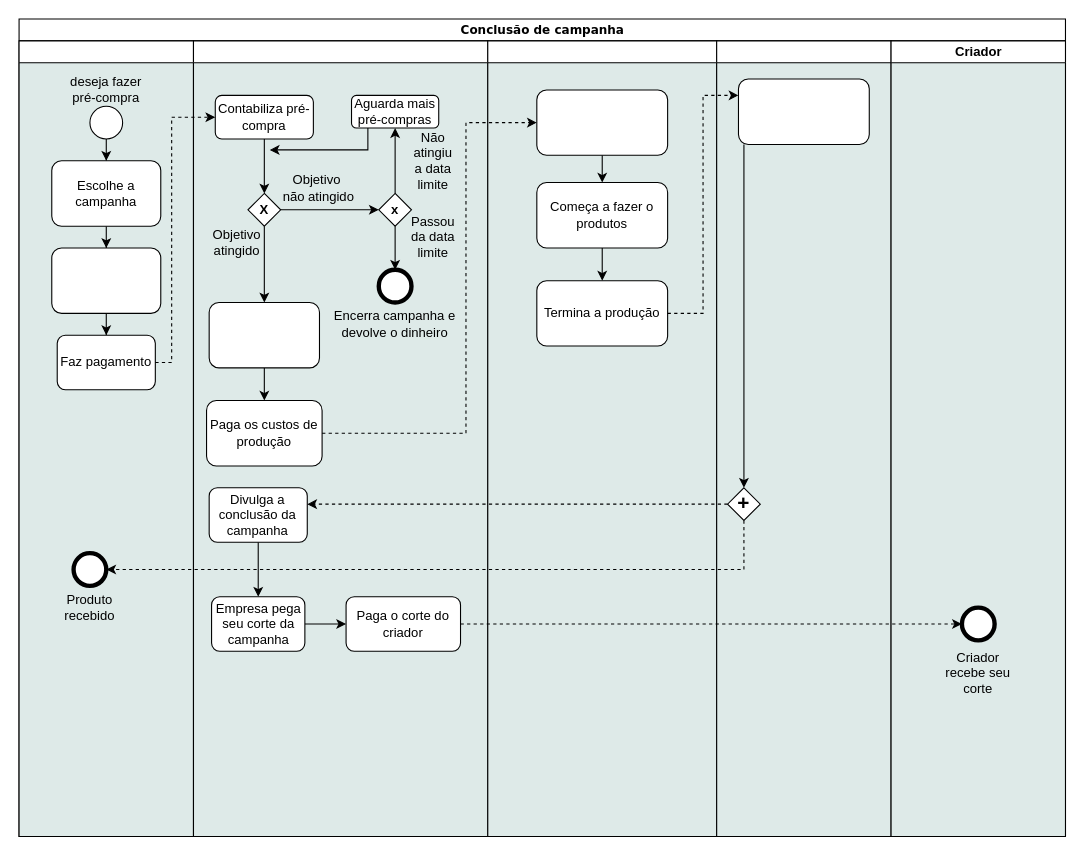
The diagram is 1085 pixels wide and 856 high, and some of its shapes have lost their labels. Each missing label, with the box of its shape:
Crowdsurfer: (192, 40, 488, 837)
Distribuidora: (716, 40, 891, 837)
Escolhe endereço de entrega: (51, 247, 161, 313)
Fornecedora: (487, 40, 717, 837)
Fã: (18, 40, 193, 837)
Informa que a fornecedora deve iniciar produção: (208, 301, 319, 368)
Realiza as entregas: (737, 78, 869, 144)
Recebe pagamento: (536, 89, 668, 155)
